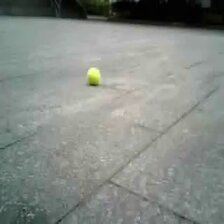tennis: (86, 68, 102, 84)
